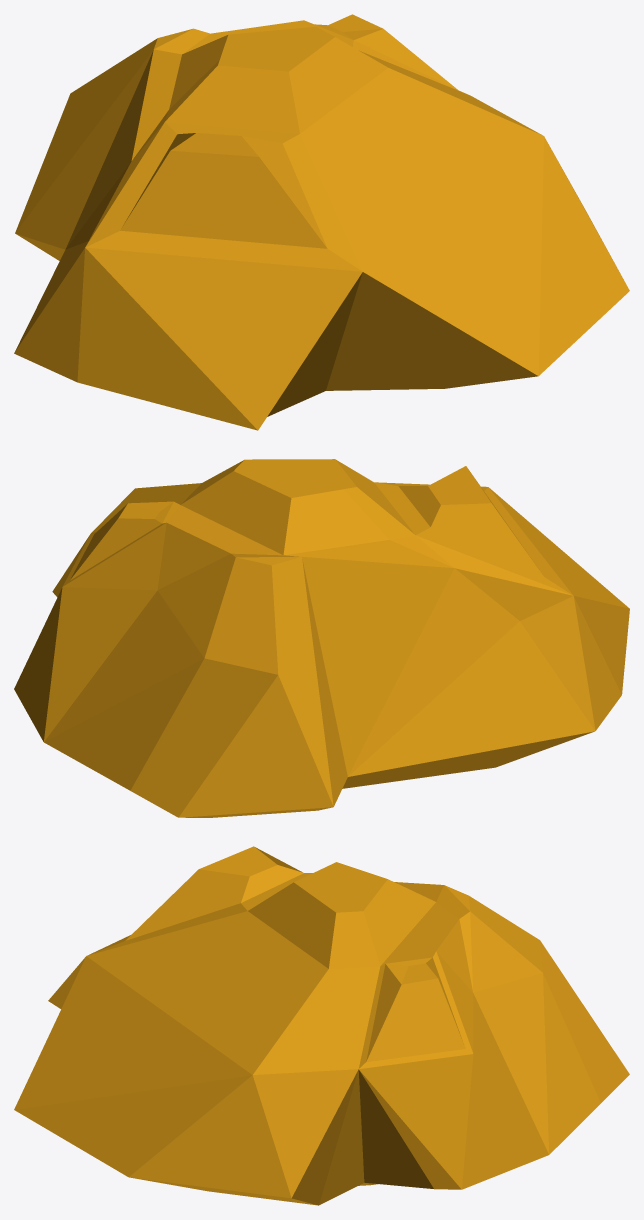
File: SandItem.fbx
3 renders of one model, top to bottom at view 1: azimuth 30°, elevation 25°; view 2: azimuth 150°, elevation 25°; view 3: azimuth 270°, elevation 25°, orthographic. The views are drawn at different scales.
Parts seen in each view (by area): view 1: Cube; view 2: Cube; view 3: Cube.
Part boxes in pixels (x1,y1,x2,y2): Cube: (14, 14, 629, 430); Cube: (14, 459, 629, 817); Cube: (14, 846, 629, 1205).
Size of the model in its own units: 68.86 by 36.04 by 72.68.
